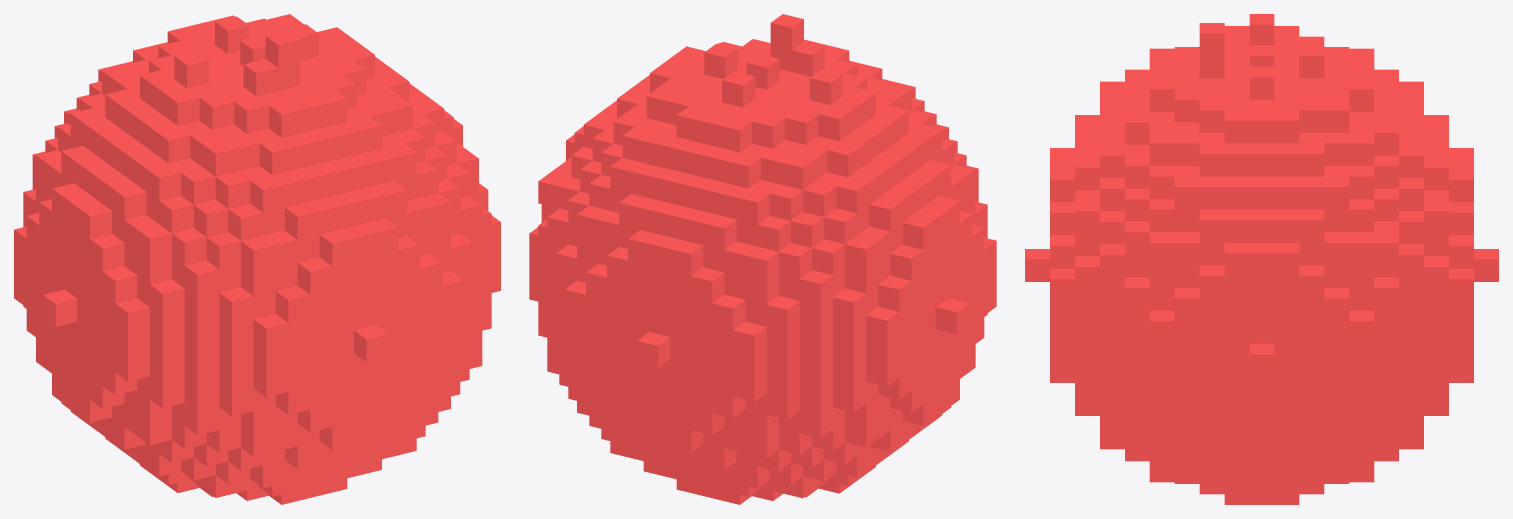
Rendered from 红色的球.gltf.
3 views of the same model, side by side, from view 1: azimuth 30°, elevation 25°; view 2: azimuth 150°, elevation 25°; view 3: azimuth 270°, elevation 25° (orthographic). The views are drawn at different scales.
Visible parts, largest first — view 1: Object; view 2: Object; view 3: Object.
Boxes of the visible parts, left/top/right/bottom form: Object: left=14, top=14, right=500, bottom=504; Object: left=529, top=14, right=996, bottom=504; Object: left=1025, top=14, right=1498, bottom=504.
Bounding box in the file's own units: 19 × 20 × 19.
1 material, 1 textured.
